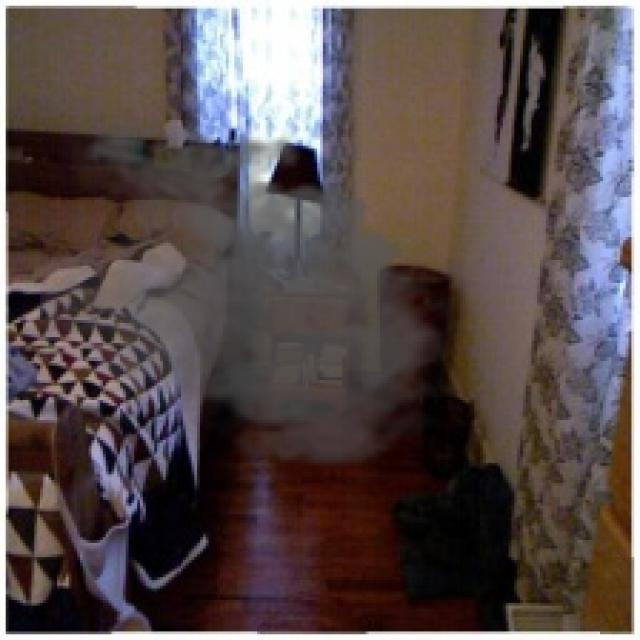smoke: (40, 112, 466, 474)
